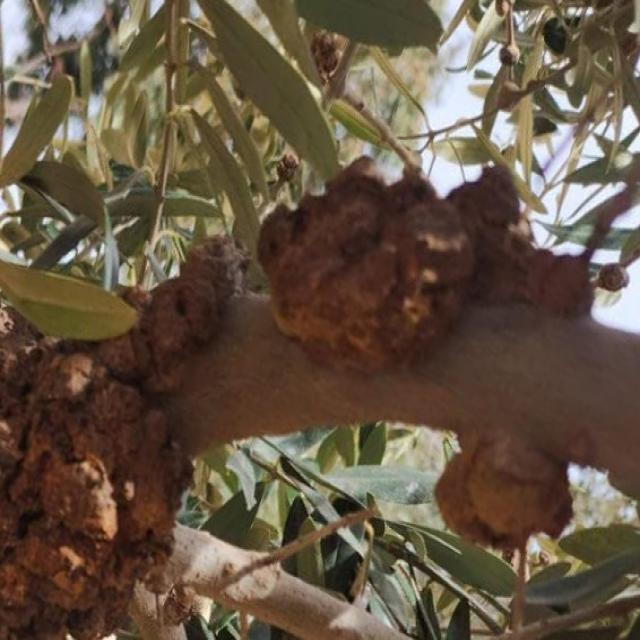Tuberculosis: (258, 157, 589, 371), (0, 318, 192, 639), (98, 235, 248, 391), (435, 440, 572, 553)
